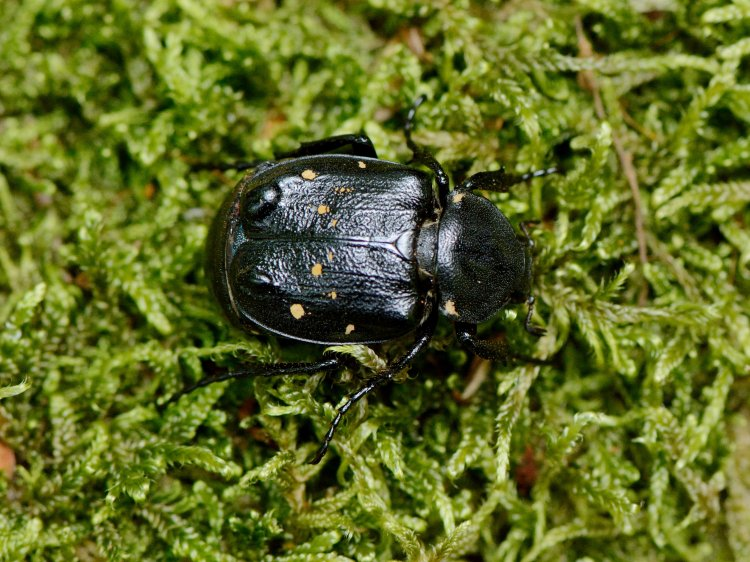Gnorimus_variabilis: (140, 92, 575, 475)
